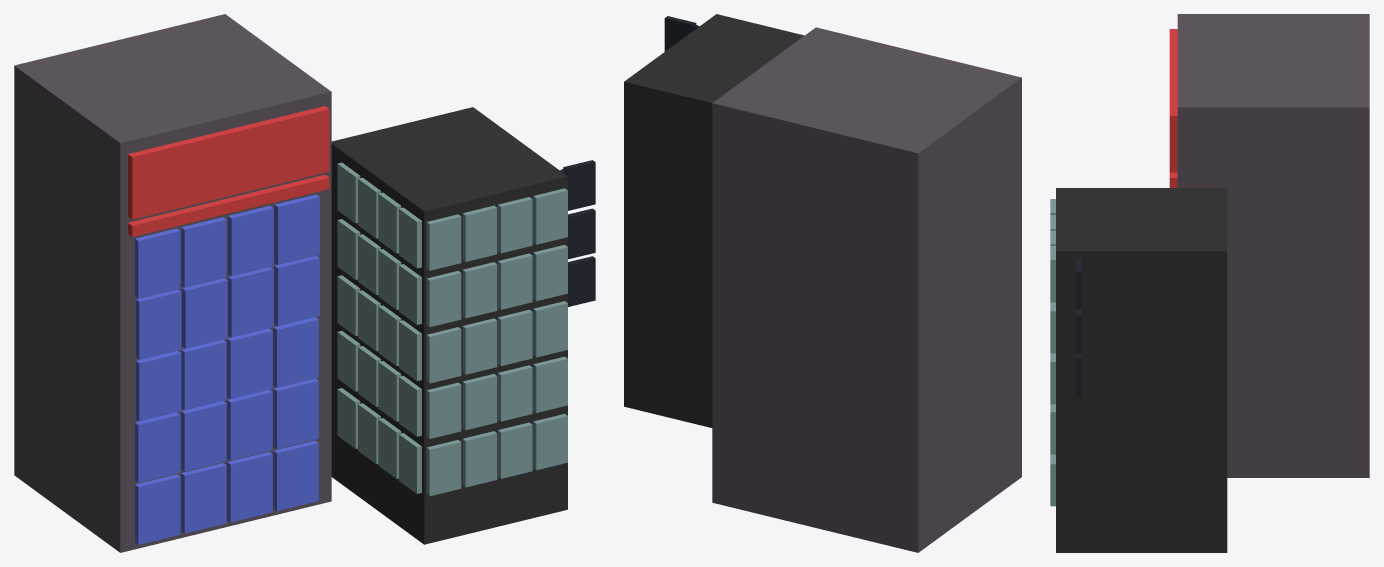
File: skyscrapers.fbx
The picture shows the model from 3 angles, left to right: view 1: azimuth 30°, elevation 25°; view 2: azimuth 150°, elevation 25°; view 3: azimuth 270°, elevation 25°; orthographic projection. The views are drawn at different scales.
Visible parts, largest first — view 1: PurpleBuildingWHOLE, GreyBuildingWHOLE, pCube1, pasted__pasted__pasted__pasted__pasted__pCube2 (×3), pasted__pasted__pasted__pasted__pCube2 (×3), pasted__pasted__pasted__pCube2 (×2), pasted__pasted__pasted__pasted__pasted__pasted__pCube2 (×2), pasted__pCube1, pasted__pCube2, pasted__pasted__pCube3, pasted__pasted__pasted__pasted__pasted__pasted__pasted__pCub, pasted__pasted__pasted__pCube3 (+49 smaller); view 2: PurpleBuildingWHOLE, GreyBuildingWHOLE, GreyBuildingSignTOP; view 3: PurpleBuildingWHOLE, GreyBuildingWHOLE, pCube1.
Part boxes in pixels (x1,y1,x2,y2): PurpleBuildingWHOLE: [14, 14, 331, 552]; GreyBuildingWHOLE: [331, 107, 567, 544]; pCube1: [128, 106, 329, 219]; pasted__pasted__pasted__pasted__pasted__pCube2 (×3): [181, 317, 318, 533]; pasted__pasted__pasted__pasted__pCube2 (×3): [135, 328, 272, 544]; pasted__pasted__pasted__pCube2 (×2): [135, 339, 226, 482]; pasted__pasted__pasted__pasted__pasted__pasted__pCube2 (×2): [227, 378, 318, 522]; pasted__pCube1: [128, 174, 329, 236]; pasted__pCube2: [181, 217, 226, 287]; pasted__pasted__pCube3: [228, 205, 273, 276]; pasted__pasted__pasted__pasted__pasted__pasted__pasted__pCub: [273, 440, 318, 510]; pasted__pasted__pasted__pCube3: [274, 194, 319, 264]; PurpleBuildingWHOLE: [712, 27, 1021, 552]; GreyBuildingWHOLE: [624, 14, 804, 427]; GreyBuildingSignTOP: [664, 16, 699, 51]; PurpleBuildingWHOLE: [1177, 14, 1369, 477]; GreyBuildingWHOLE: [1056, 188, 1227, 552]; pCube1: [1169, 29, 1177, 172].
Size of the model in its own units: 41.71 by 38.99 by 30.42.
